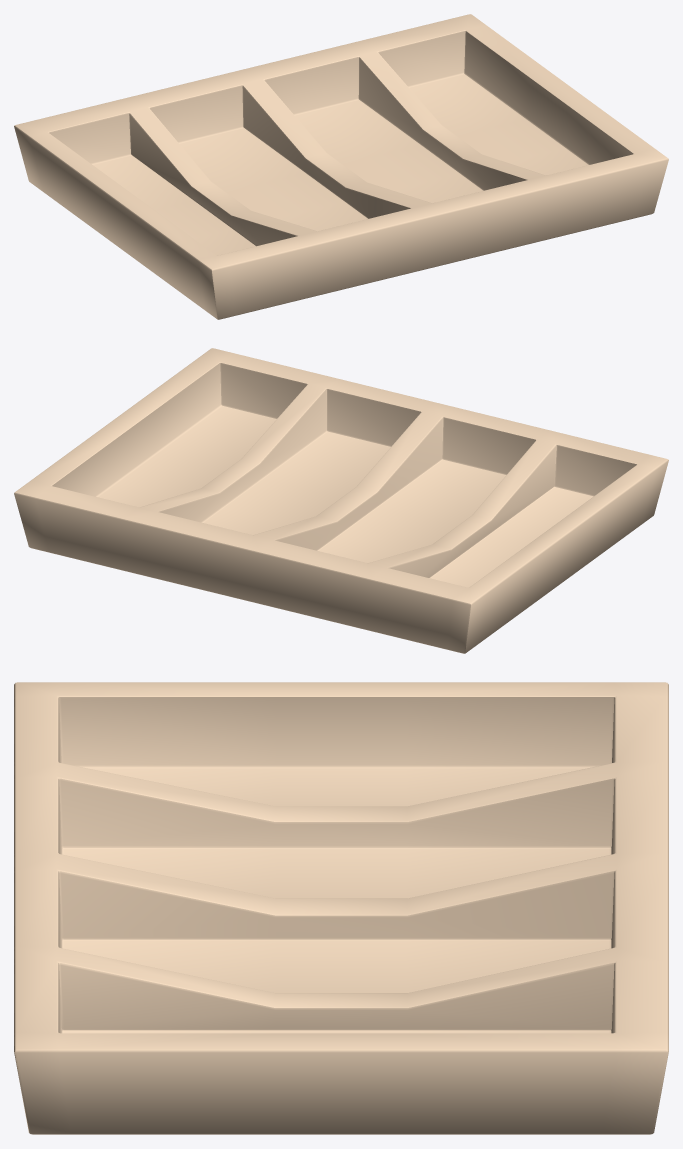
The model's file is cultery tray.fbx.
3 renders of one model, top to bottom at view 1: azimuth 30°, elevation 25°; view 2: azimuth 150°, elevation 25°; view 3: azimuth 270°, elevation 25°, orthographic. The views are drawn at different scales.
Parts seen in each view (by area): view 1: cultery tray; view 2: cultery tray; view 3: cultery tray.
Part boxes in pixels (x1=…): cultery tray: x1=14, y1=14, x2=668, y2=319; cultery tray: x1=14, y1=348, x2=668, y2=653; cultery tray: x1=14, y1=682, x2=668, y2=1134.
Size of the model in its own units: 84.19 by 10.02 by 63.14.
